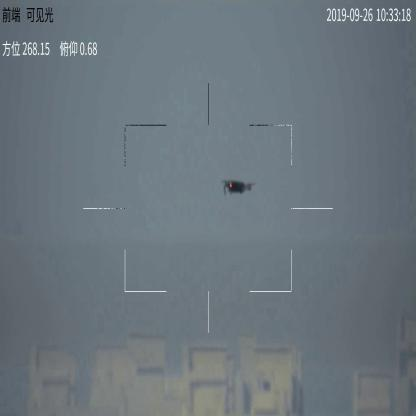uav: (220, 178, 258, 197)
